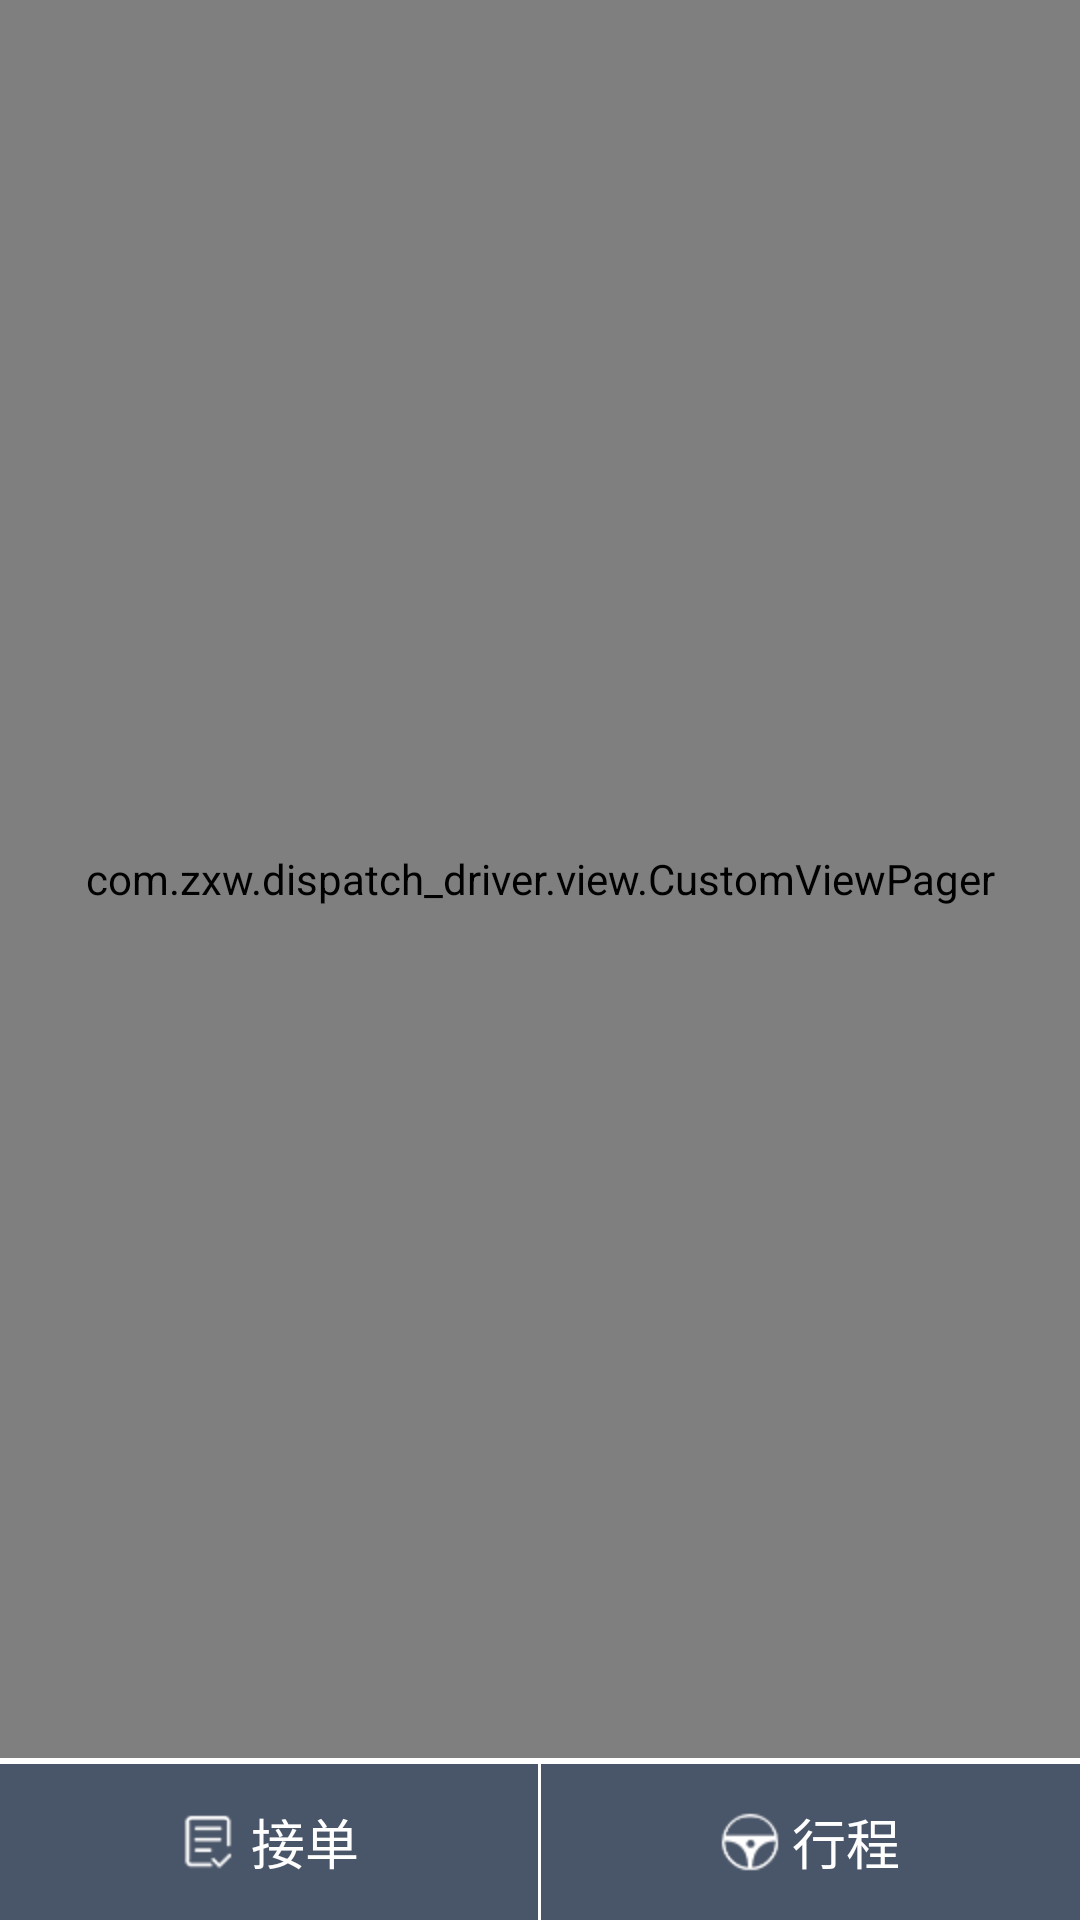

Screen size 1080*1920. Icon name, then its box in pixels as (x1, y1, x2, y2):
journey: (721, 1813, 779, 1871)
order: (184, 1815, 232, 1868)
